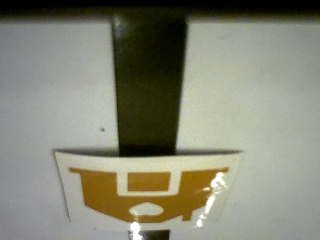Rescue_Station: (68, 165, 229, 225)
